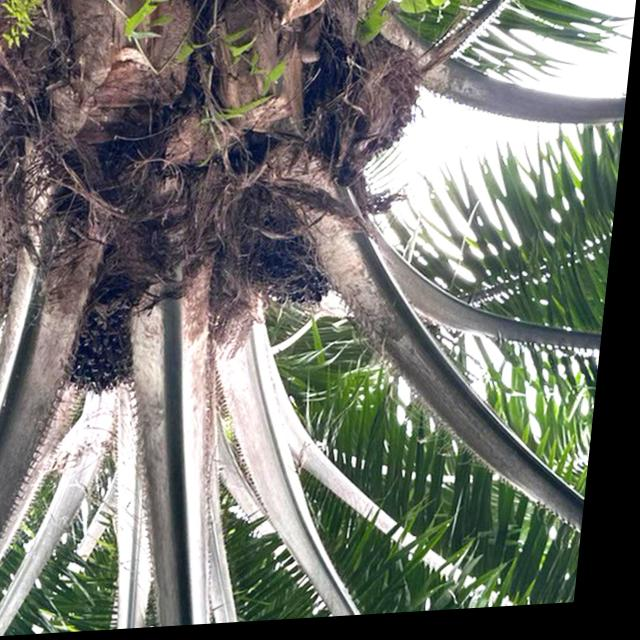unripe: (56, 291, 163, 405), (241, 218, 356, 321)
